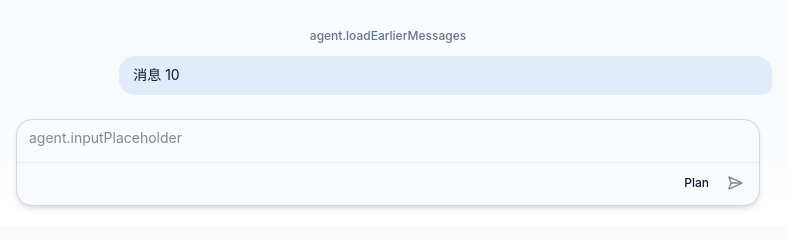
Test: useChatHistory 分页合并 › hasMore 翻转后按钮显隐变化
The width and height of the screenshot is (789, 241).
Expected: the text "消息 10" is shown, [133, 66, 180, 83]
Step 1. Click the button "agent.loadEarlierMessages" → click(388, 36), box [298, 22, 478, 50]
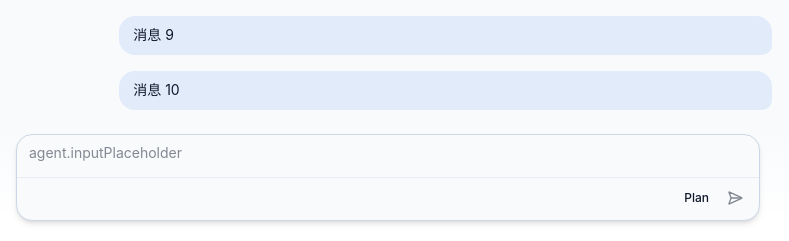
Now the text "消息 9" is shown, box [133, 26, 174, 43]
Now the button "agent.loadEarlierMessages" is gone
